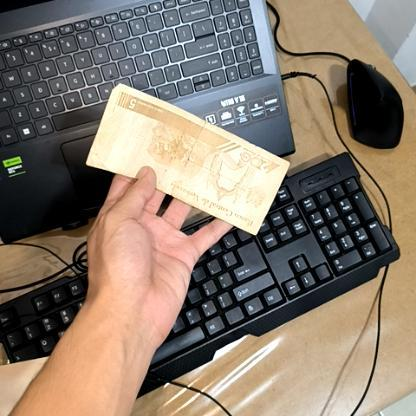twenty-back-vef: (85, 81, 292, 236)
